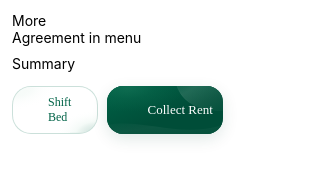
Test: RES-004: keeps checkout reachable through the identity menu
Click the button with aria-label "Stay and checkout". click: point(118, 20)
box: [12,12,223,29]
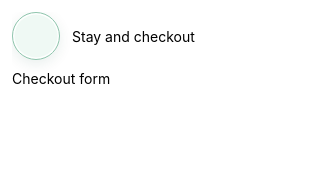
Check: the text "Checkout form" is shown, box [12,70,110,87]
